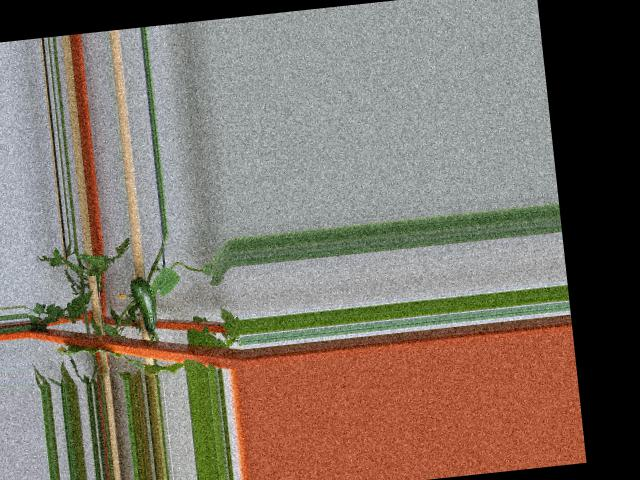cucumber: (128, 270, 158, 333)
